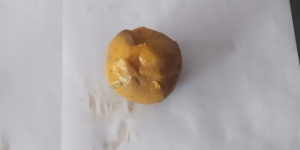BAD: (106, 28, 179, 104)
